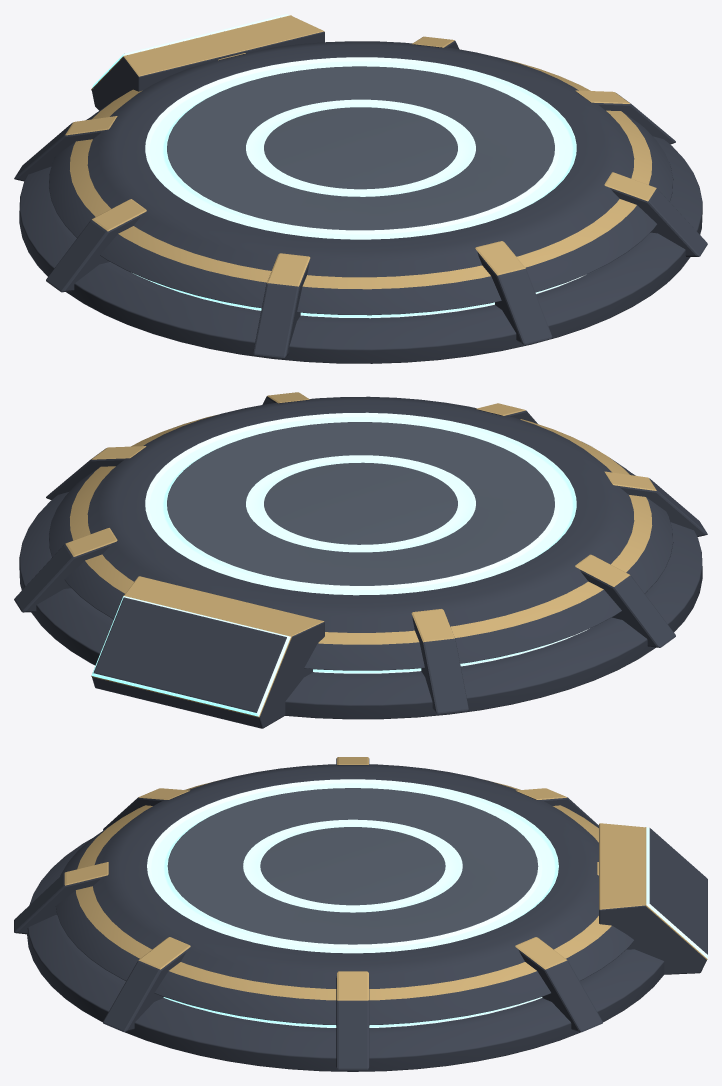
Rendered from pedestal.glb.
The picture shows the model from 3 angles, top to bottom: view 1: azimuth 30°, elevation 25°; view 2: azimuth 150°, elevation 25°; view 3: azimuth 270°, elevation 25°; orthographic projection. The views are drawn at different scales.
Parts seen in each view (by area): view 1: SM_Pedestal_Core, SM_Pedestal_Struts, SM_Pedestal_Display; view 2: SM_Pedestal_Core, SM_Pedestal_Display, SM_Pedestal_Struts; view 3: SM_Pedestal_Core, SM_Pedestal_Struts, SM_Pedestal_Display.
Boxes of the visible parts, bbox=[...] form: SM_Pedestal_Core: bbox=[19, 41, 702, 363]; SM_Pedestal_Struts: bbox=[14, 36, 707, 357]; SM_Pedestal_Display: bbox=[91, 14, 324, 144]; SM_Pedestal_Core: bbox=[19, 396, 702, 719]; SM_Pedestal_Display: bbox=[91, 576, 324, 728]; SM_Pedestal_Struts: bbox=[14, 392, 707, 713]; SM_Pedestal_Core: bbox=[27, 764, 664, 1071]; SM_Pedestal_Struts: bbox=[14, 757, 602, 1069]; SM_Pedestal_Display: bbox=[599, 823, 707, 974].
Bounding box in the file's own units: 1.98 × 0.2216 × 2.02.
